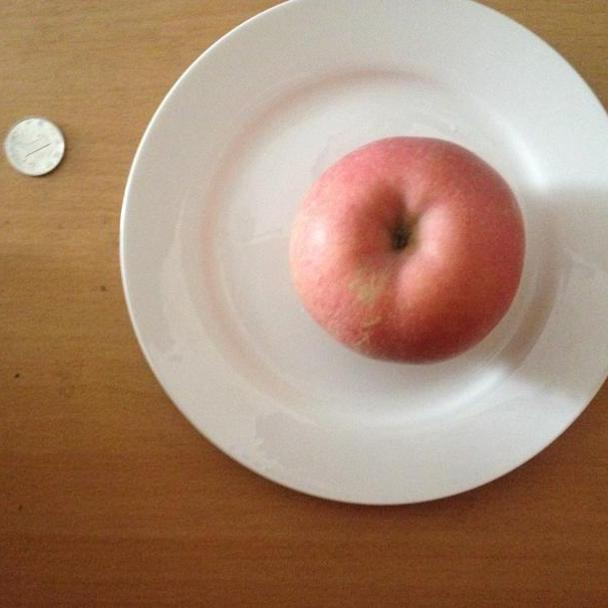apple: (286, 137, 536, 363)
